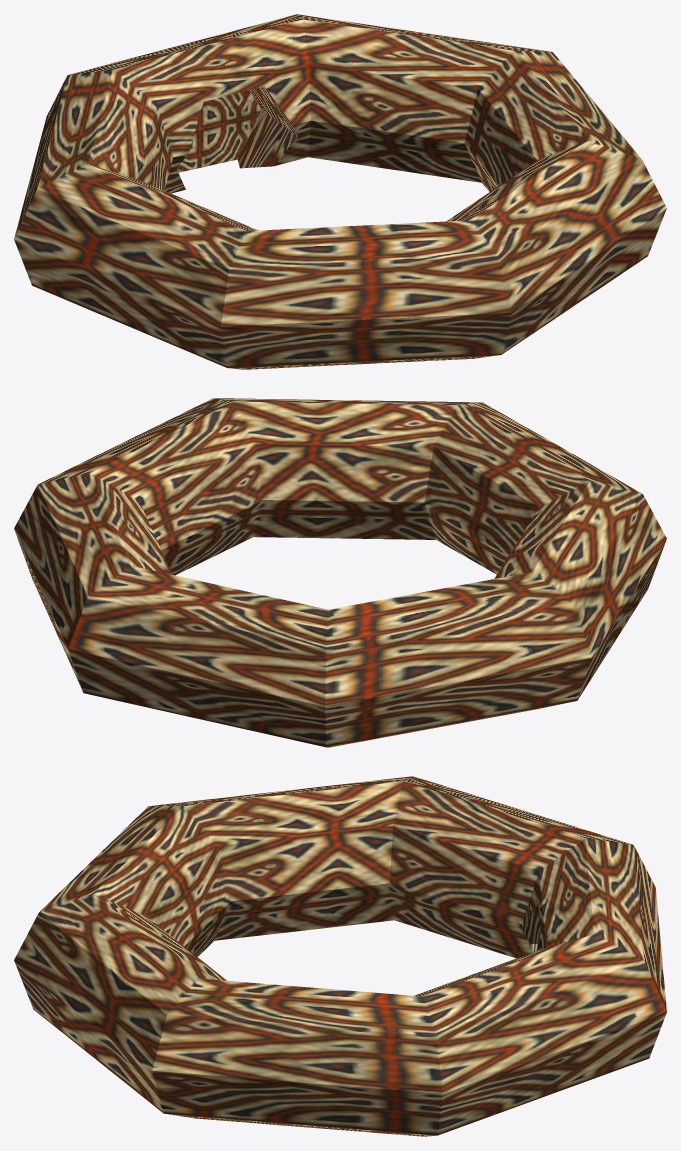
The model's file is ArenaDenialBound.fbx.
3 renders of one model, top to bottom at view 1: azimuth 30°, elevation 25°; view 2: azimuth 150°, elevation 25°; view 3: azimuth 270°, elevation 25°, orthographic.
Visible parts, largest first — view 1: ArenaBound; view 2: ArenaBound; view 3: ArenaBound.
Part boxes in pixels (x1,y1,x2,y2): ArenaBound: (14,14,666,369); ArenaBound: (14,398,666,747); ArenaBound: (14,776,666,1136).
Bounding box in the file's own units: 6811 × 1552 × 6698.
Materials: 1 (1 with a texture image).
